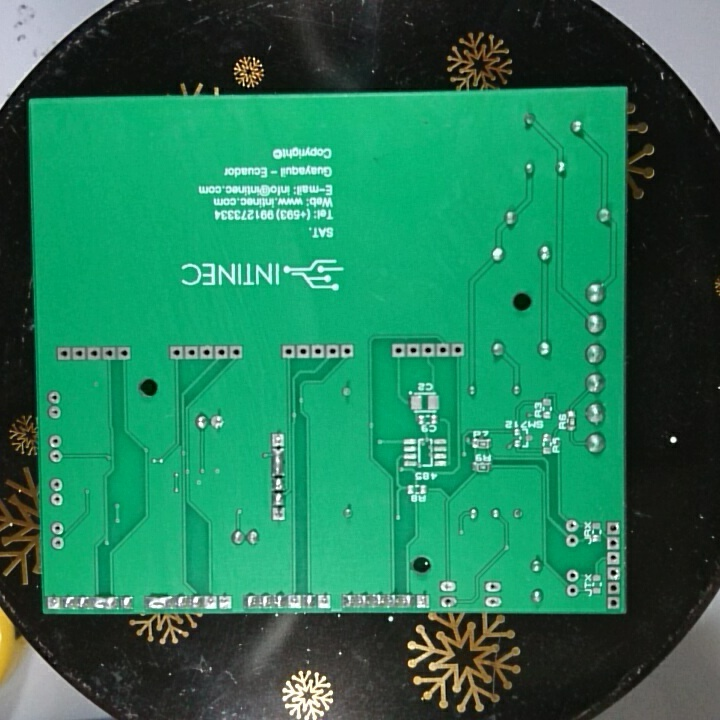F: (227, 343, 244, 362), (209, 415, 227, 432), (439, 578, 459, 593), (270, 508, 287, 525), (510, 506, 527, 523), (56, 345, 72, 363), (169, 343, 185, 361), (280, 343, 296, 361), (285, 594, 301, 612), (71, 347, 87, 364), (198, 344, 214, 361), (338, 343, 354, 360), (604, 521, 621, 537), (50, 535, 67, 551), (270, 430, 287, 446), (204, 592, 220, 609), (391, 342, 406, 360), (421, 342, 436, 360), (450, 342, 465, 360), (605, 595, 623, 610), (185, 343, 199, 362), (436, 341, 450, 360), (48, 389, 64, 405), (47, 404, 63, 420), (99, 344, 116, 359), (606, 564, 621, 581), (46, 595, 61, 612), (214, 344, 228, 362), (326, 343, 340, 361), (406, 342, 420, 360), (605, 580, 621, 595), (116, 345, 130, 362), (484, 580, 501, 594), (296, 343, 309, 361), (311, 343, 324, 361), (484, 595, 502, 608), (439, 595, 457, 608), (565, 583, 580, 598), (565, 532, 581, 546), (565, 518, 579, 534), (218, 593, 232, 609), (606, 552, 621, 566), (49, 449, 63, 464), (567, 567, 580, 583), (48, 435, 64, 448), (338, 383, 350, 400), (51, 522, 67, 534), (50, 478, 64, 491), (87, 346, 99, 361), (317, 593, 327, 609), (606, 538, 619, 550), (51, 495, 65, 506), (415, 592, 421, 612)
P: (269, 444, 284, 477), (92, 595, 119, 611), (147, 594, 173, 610)
